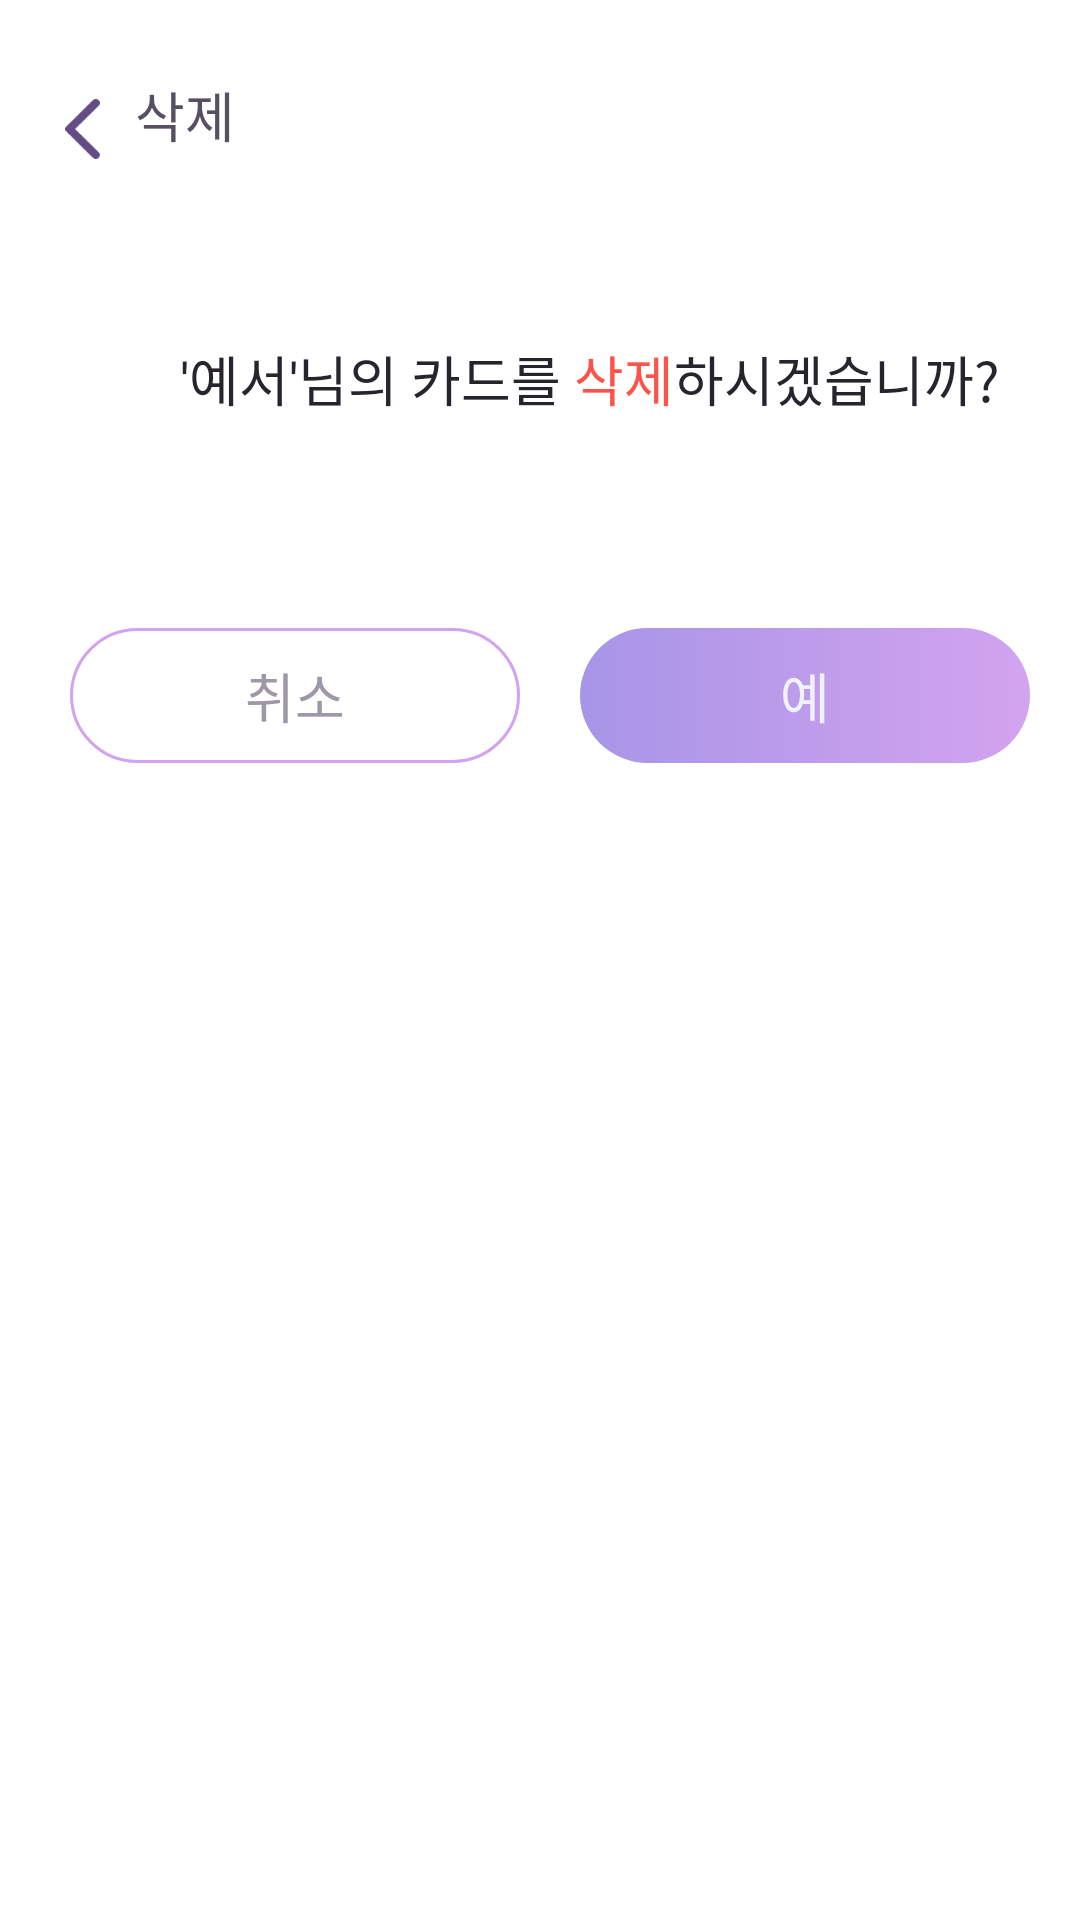

Icon click points for this 1080*1920 phone screenshot, format point (x, y):
back: point (82, 129)
